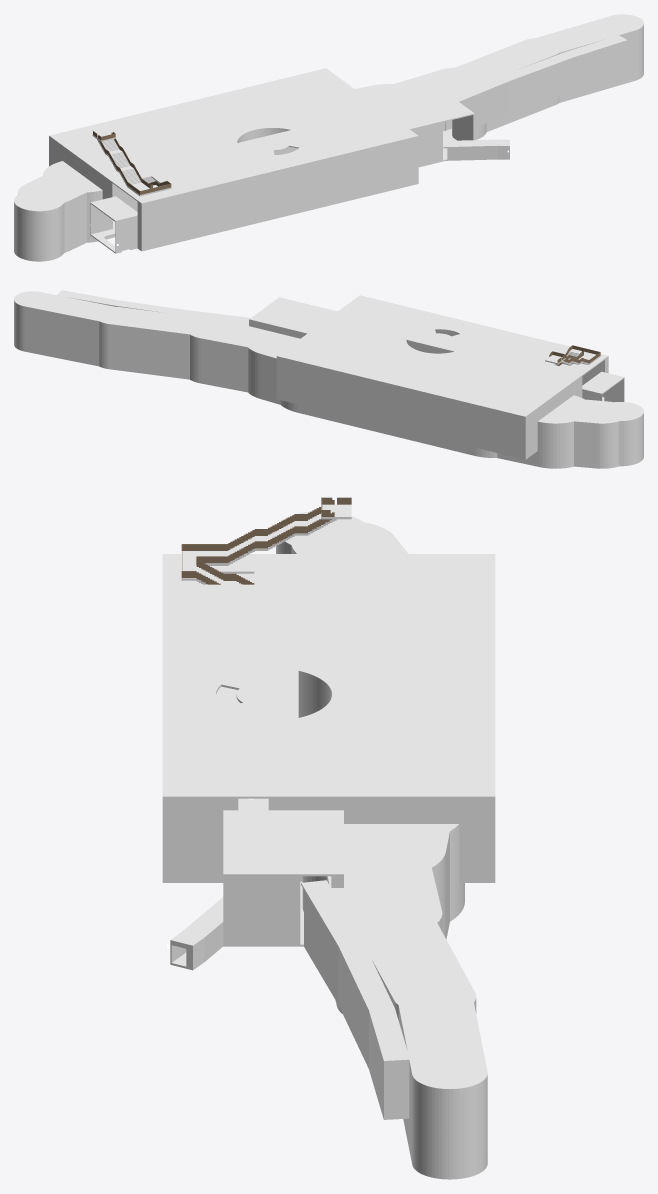
3 views of the same model, one above another, from view 1: azimuth 30°, elevation 25°; view 2: azimuth 150°, elevation 25°; view 3: azimuth 270°, elevation 25° (orthographic). The views are drawn at different scales.
Parts seen in each view (by area): view 1: b2_ceiling_rock_ceiling, b2_wall_plaster, b2_floor_stone_floor, b2_basin_pool_tile, b2_stair_wood, b2_rail_rail; view 2: b2_ceiling_rock_ceiling, b2_wall_plaster, b2_basin_pool_tile, b2_floor_stone_floor, b2_rail_rail, b2_stair_wood; view 3: b2_ceiling_rock_ceiling, b2_wall_plaster, b2_rail_rail, b2_floor_stone_floor, b2_stair_wood.
Boxes of the visible parts, x1,y1,x2,y2 form: b2_ceiling_rock_ceiling: [14, 14, 643, 221]; b2_wall_plaster: [14, 25, 643, 260]; b2_floor_stone_floor: [14, 72, 643, 261]; b2_basin_pool_tile: [69, 63, 634, 249]; b2_stair_wood: [92, 131, 171, 196]; b2_rail_rail: [93, 131, 171, 194]; b2_ceiling_rock_ceiling: [14, 290, 643, 424]; b2_wall_plaster: [14, 301, 643, 467]; b2_basin_pool_tile: [217, 371, 623, 466]; b2_floor_stone_floor: [14, 345, 643, 468]; b2_rail_rail: [549, 345, 600, 365]; b2_stair_wood: [545, 349, 600, 368]; b2_ceiling_rock_ceiling: [162, 511, 495, 1090]; b2_wall_plaster: [162, 542, 495, 1177]; b2_rail_rail: [181, 497, 351, 584]; b2_floor_stone_floor: [162, 686, 495, 1179]; b2_stair_wood: [181, 504, 351, 584].
Bounding box in the file's own units: 181 × 25.9 × 44.
